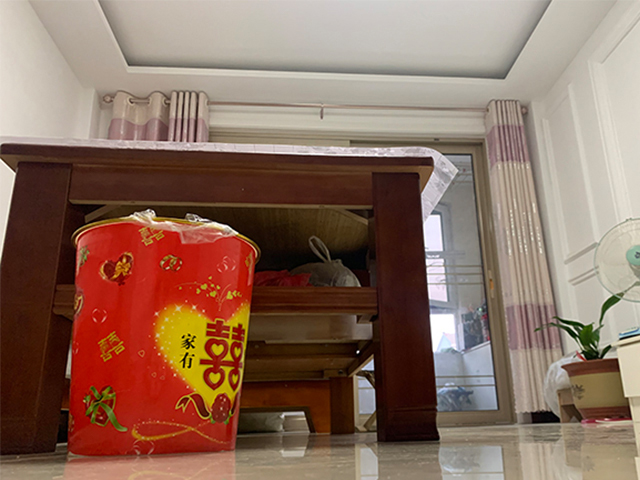curtain: (484, 98, 565, 413)
table: (1, 142, 441, 455)
trashcan: (67, 216, 262, 458)
